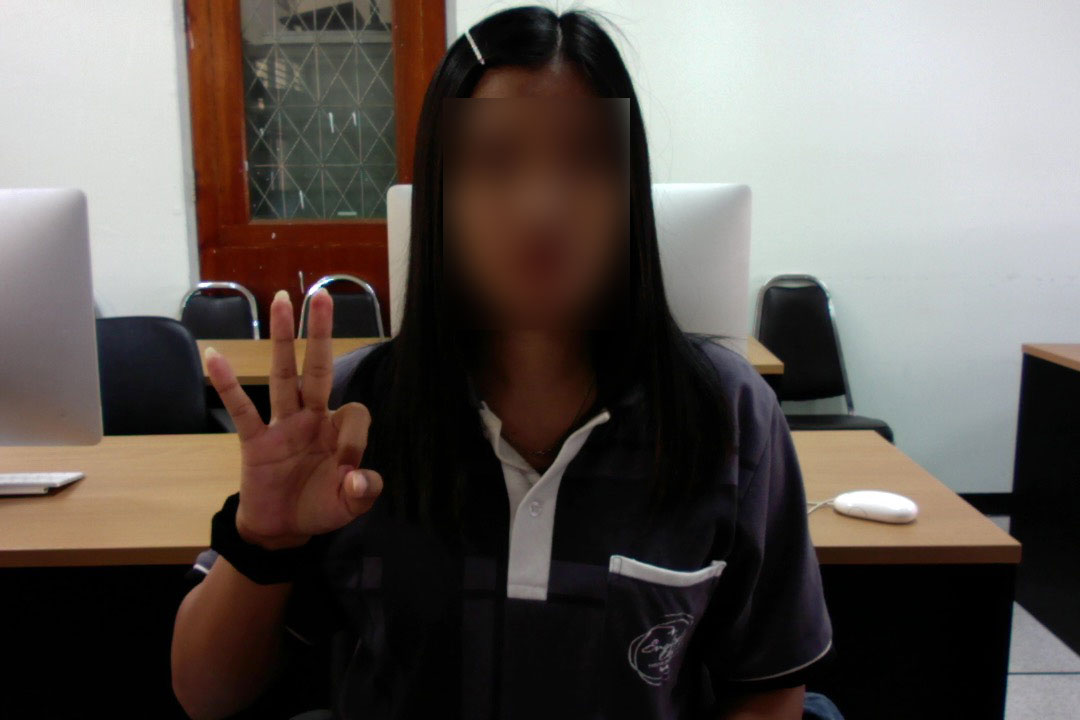for: (192, 278, 390, 559)
